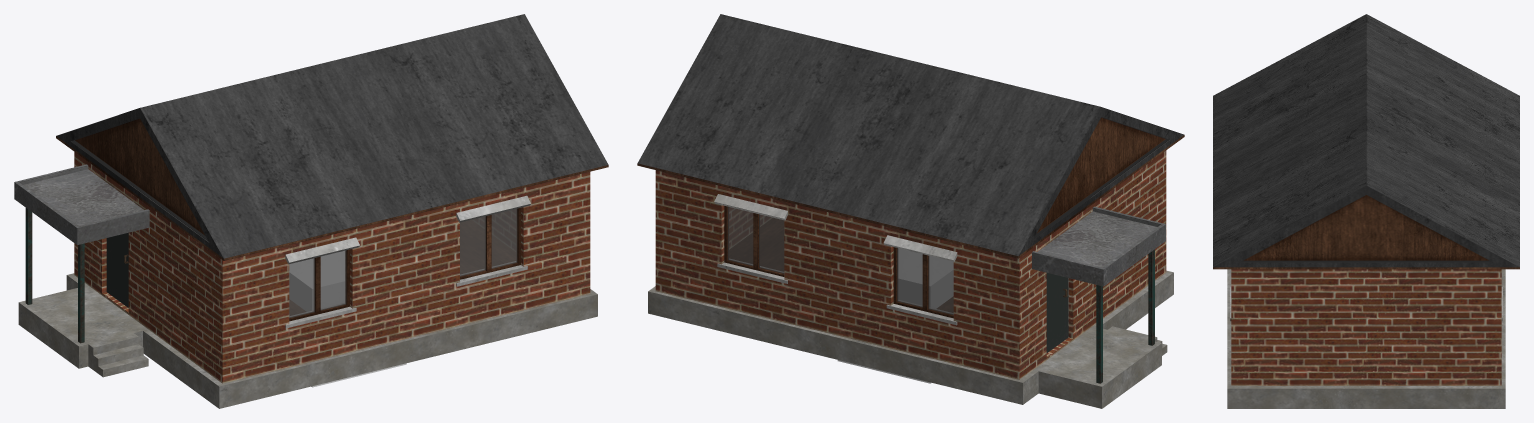
File: brickhouse.glb
3 views of the same model, side by side, from view 1: azimuth 30°, elevation 25°; view 2: azimuth 150°, elevation 25°; view 3: azimuth 270°, elevation 25° (orthographic). The views are drawn at different scales.
Visible parts, largest first — view 1: House; view 2: House; view 3: House.
Part boxes in pixels (x1,y1,x2,y2): House: [14, 14, 608, 408]; House: [637, 14, 1184, 408]; House: [1213, 14, 1519, 408].
Size of the model in its own units: 9.54 by 6 by 6.18.
8 materials, 7 textured.
